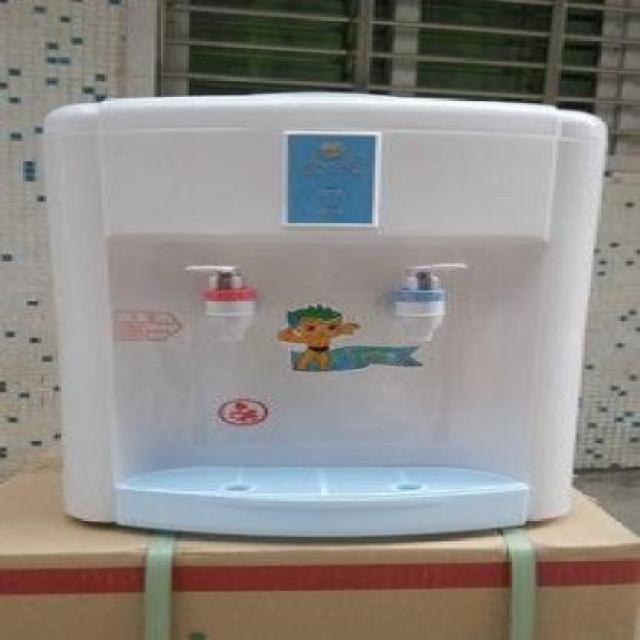cooler: (40, 88, 618, 546)
